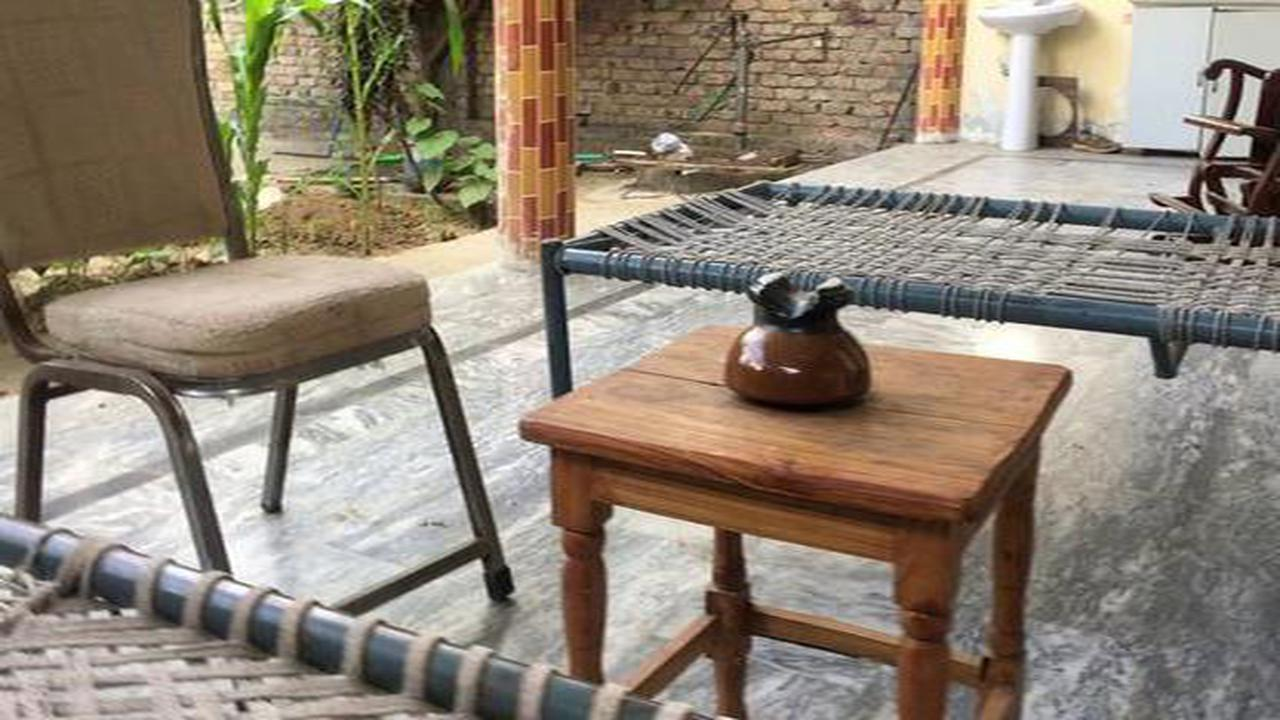insulator_pin: (705, 255, 887, 416)
